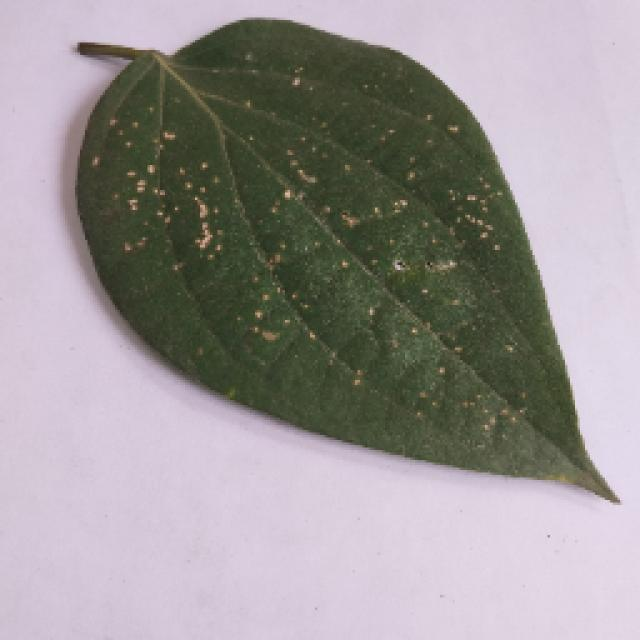pollu-disease: (55, 15, 623, 507)
